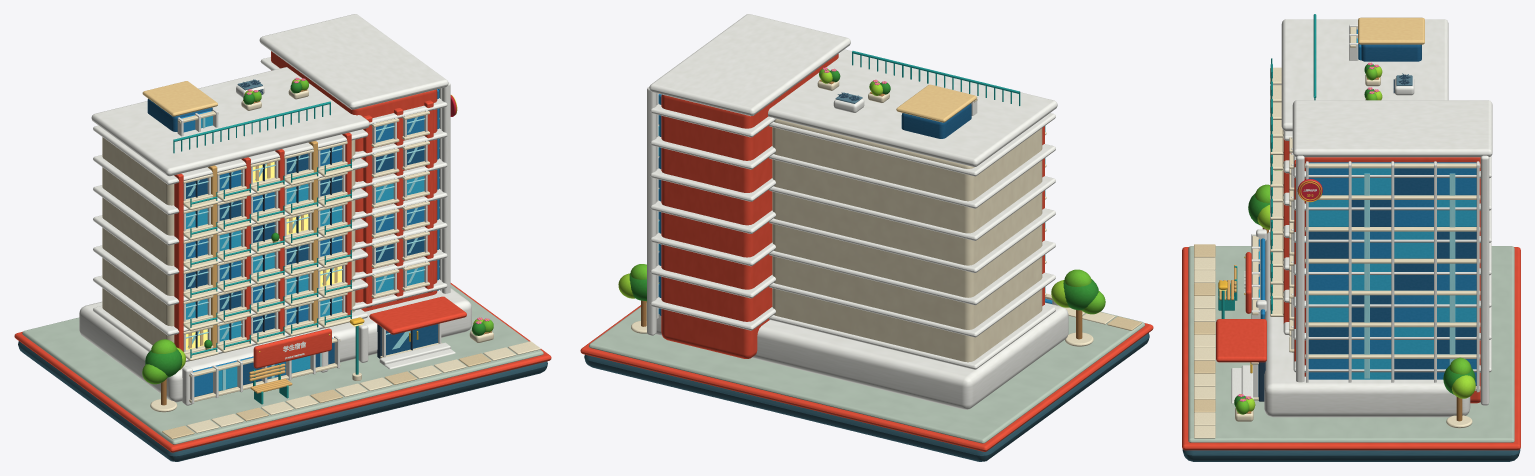
Rendered from 04_student_dormitory.glb.
3 renders of one model, left to right at view 1: azimuth 30°, elevation 25°; view 2: azimuth 150°, elevation 25°; view 3: azimuth 270°, elevation 25°, orthographic. The views are drawn at different scales.
Visible parts, largest first — view 1: 04_student_dormitory_Architecture, 04_student_dormitory_Display_Base, 04_student_dormitory_Landscaping, 04_student_dormitory_Signage; view 2: 04_student_dormitory_Architecture, 04_student_dormitory_Display_Base, 04_student_dormitory_Landscaping; view 3: 04_student_dormitory_Architecture, 04_student_dormitory_Display_Base, 04_student_dormitory_Landscaping, 04_student_dormitory_Signage.
Boxes of the visible parts, left/top/right/bottom form: 04_student_dormitory_Architecture: left=79, top=14, right=471, bottom=405; 04_student_dormitory_Display_Base: left=14, top=283, right=551, bottom=461; 04_student_dormitory_Landscaping: left=142, top=77, right=493, bottom=412; 04_student_dormitory_Signage: left=253, top=95, right=457, bottom=368; 04_student_dormitory_Architecture: left=647, top=14, right=1068, bottom=409; 04_student_dormitory_Display_Base: left=580, top=298, right=1153, bottom=461; 04_student_dormitory_Landscaping: left=618, top=67, right=1105, bottom=346; 04_student_dormitory_Architecture: left=1216, top=14, right=1492, bottom=417; 04_student_dormitory_Display_Base: left=1182, top=244, right=1520, bottom=461; 04_student_dormitory_Landscaping: left=1218, top=62, right=1475, bottom=428; 04_student_dormitory_Signage: left=1244, top=179, right=1322, bottom=313.
Bounding box in the file's own units: 12.03 × 8.24 × 8.64.
4 materials, 4 textured.
